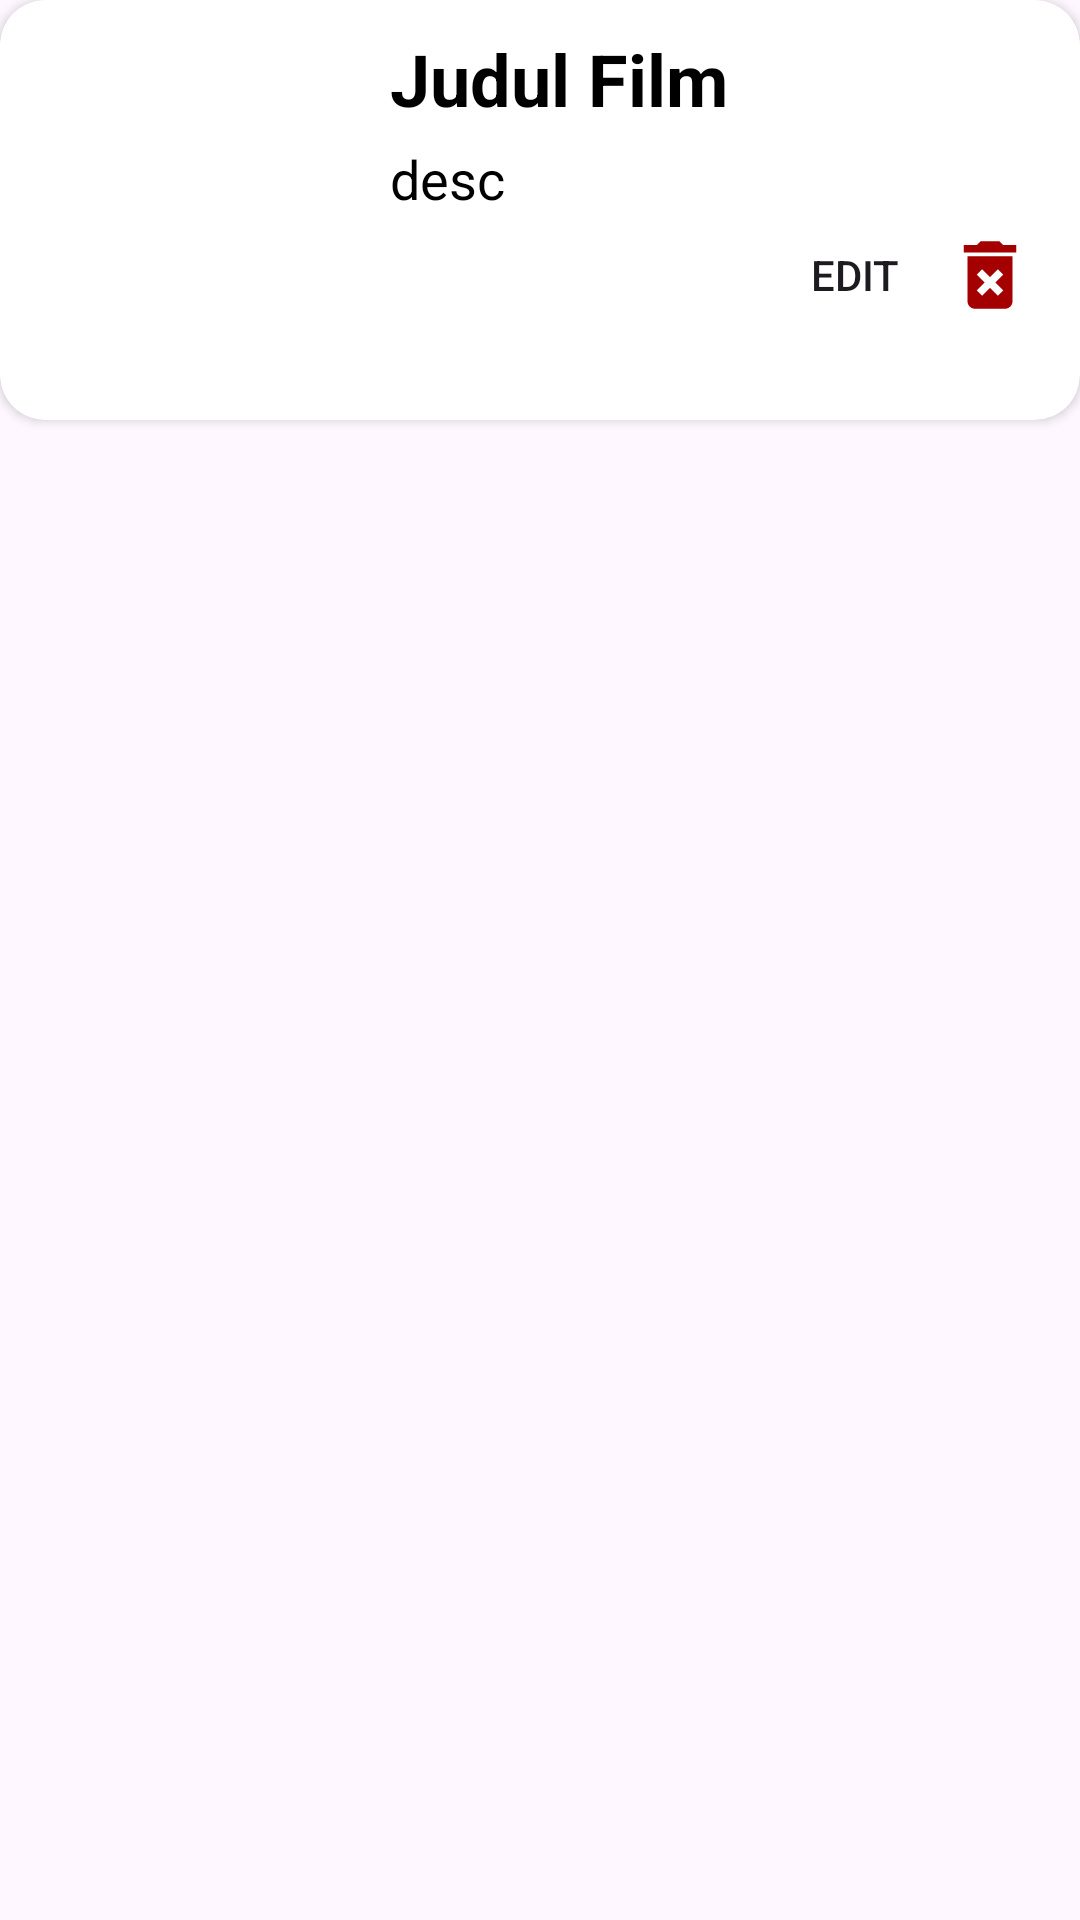

Where to tap for icons on this 1080w x 1920h app screen, as (x,y):
delete forever: (990,275)
